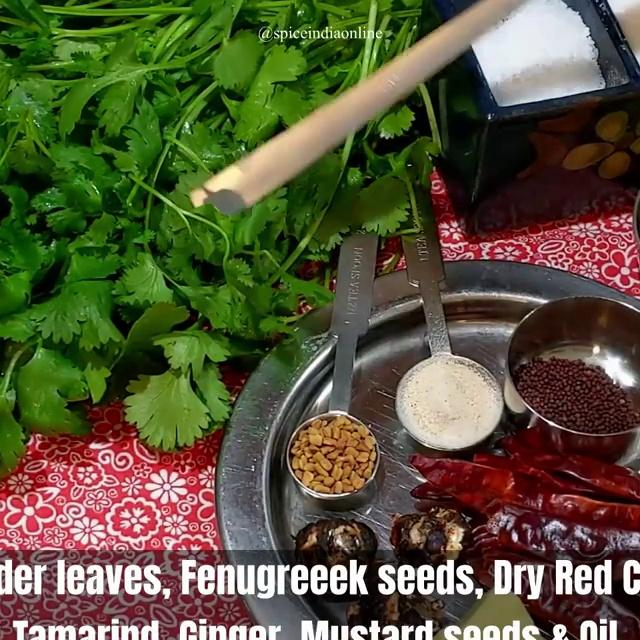cilantro: (0, 0, 182, 442)
